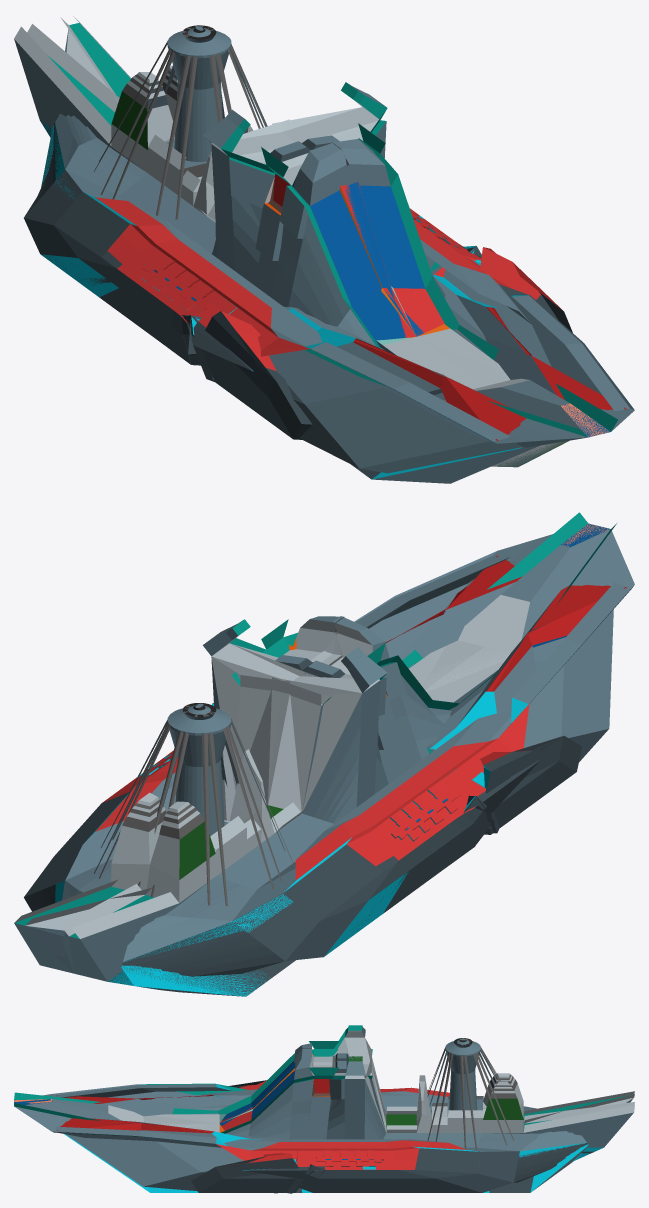
File: gemiRENKLI.fbx
The picture shows the model from 3 angles, top to bottom: view 1: azimuth 30°, elevation 25°; view 2: azimuth 150°, elevation 25°; view 3: azimuth 270°, elevation 25°; orthographic projection. The views are drawn at different scales.
Parts seen in each view (by area): view 1: gemi; view 2: gemi; view 3: gemi.
Boxes of the visible parts, box(x1,y1,x2,y2) form: gemi: box(14, 16, 634, 483); gemi: box(14, 512, 634, 996); gemi: box(14, 1025, 634, 1193).
Size of the model in its own units: 1060 by 787 by 3306.
